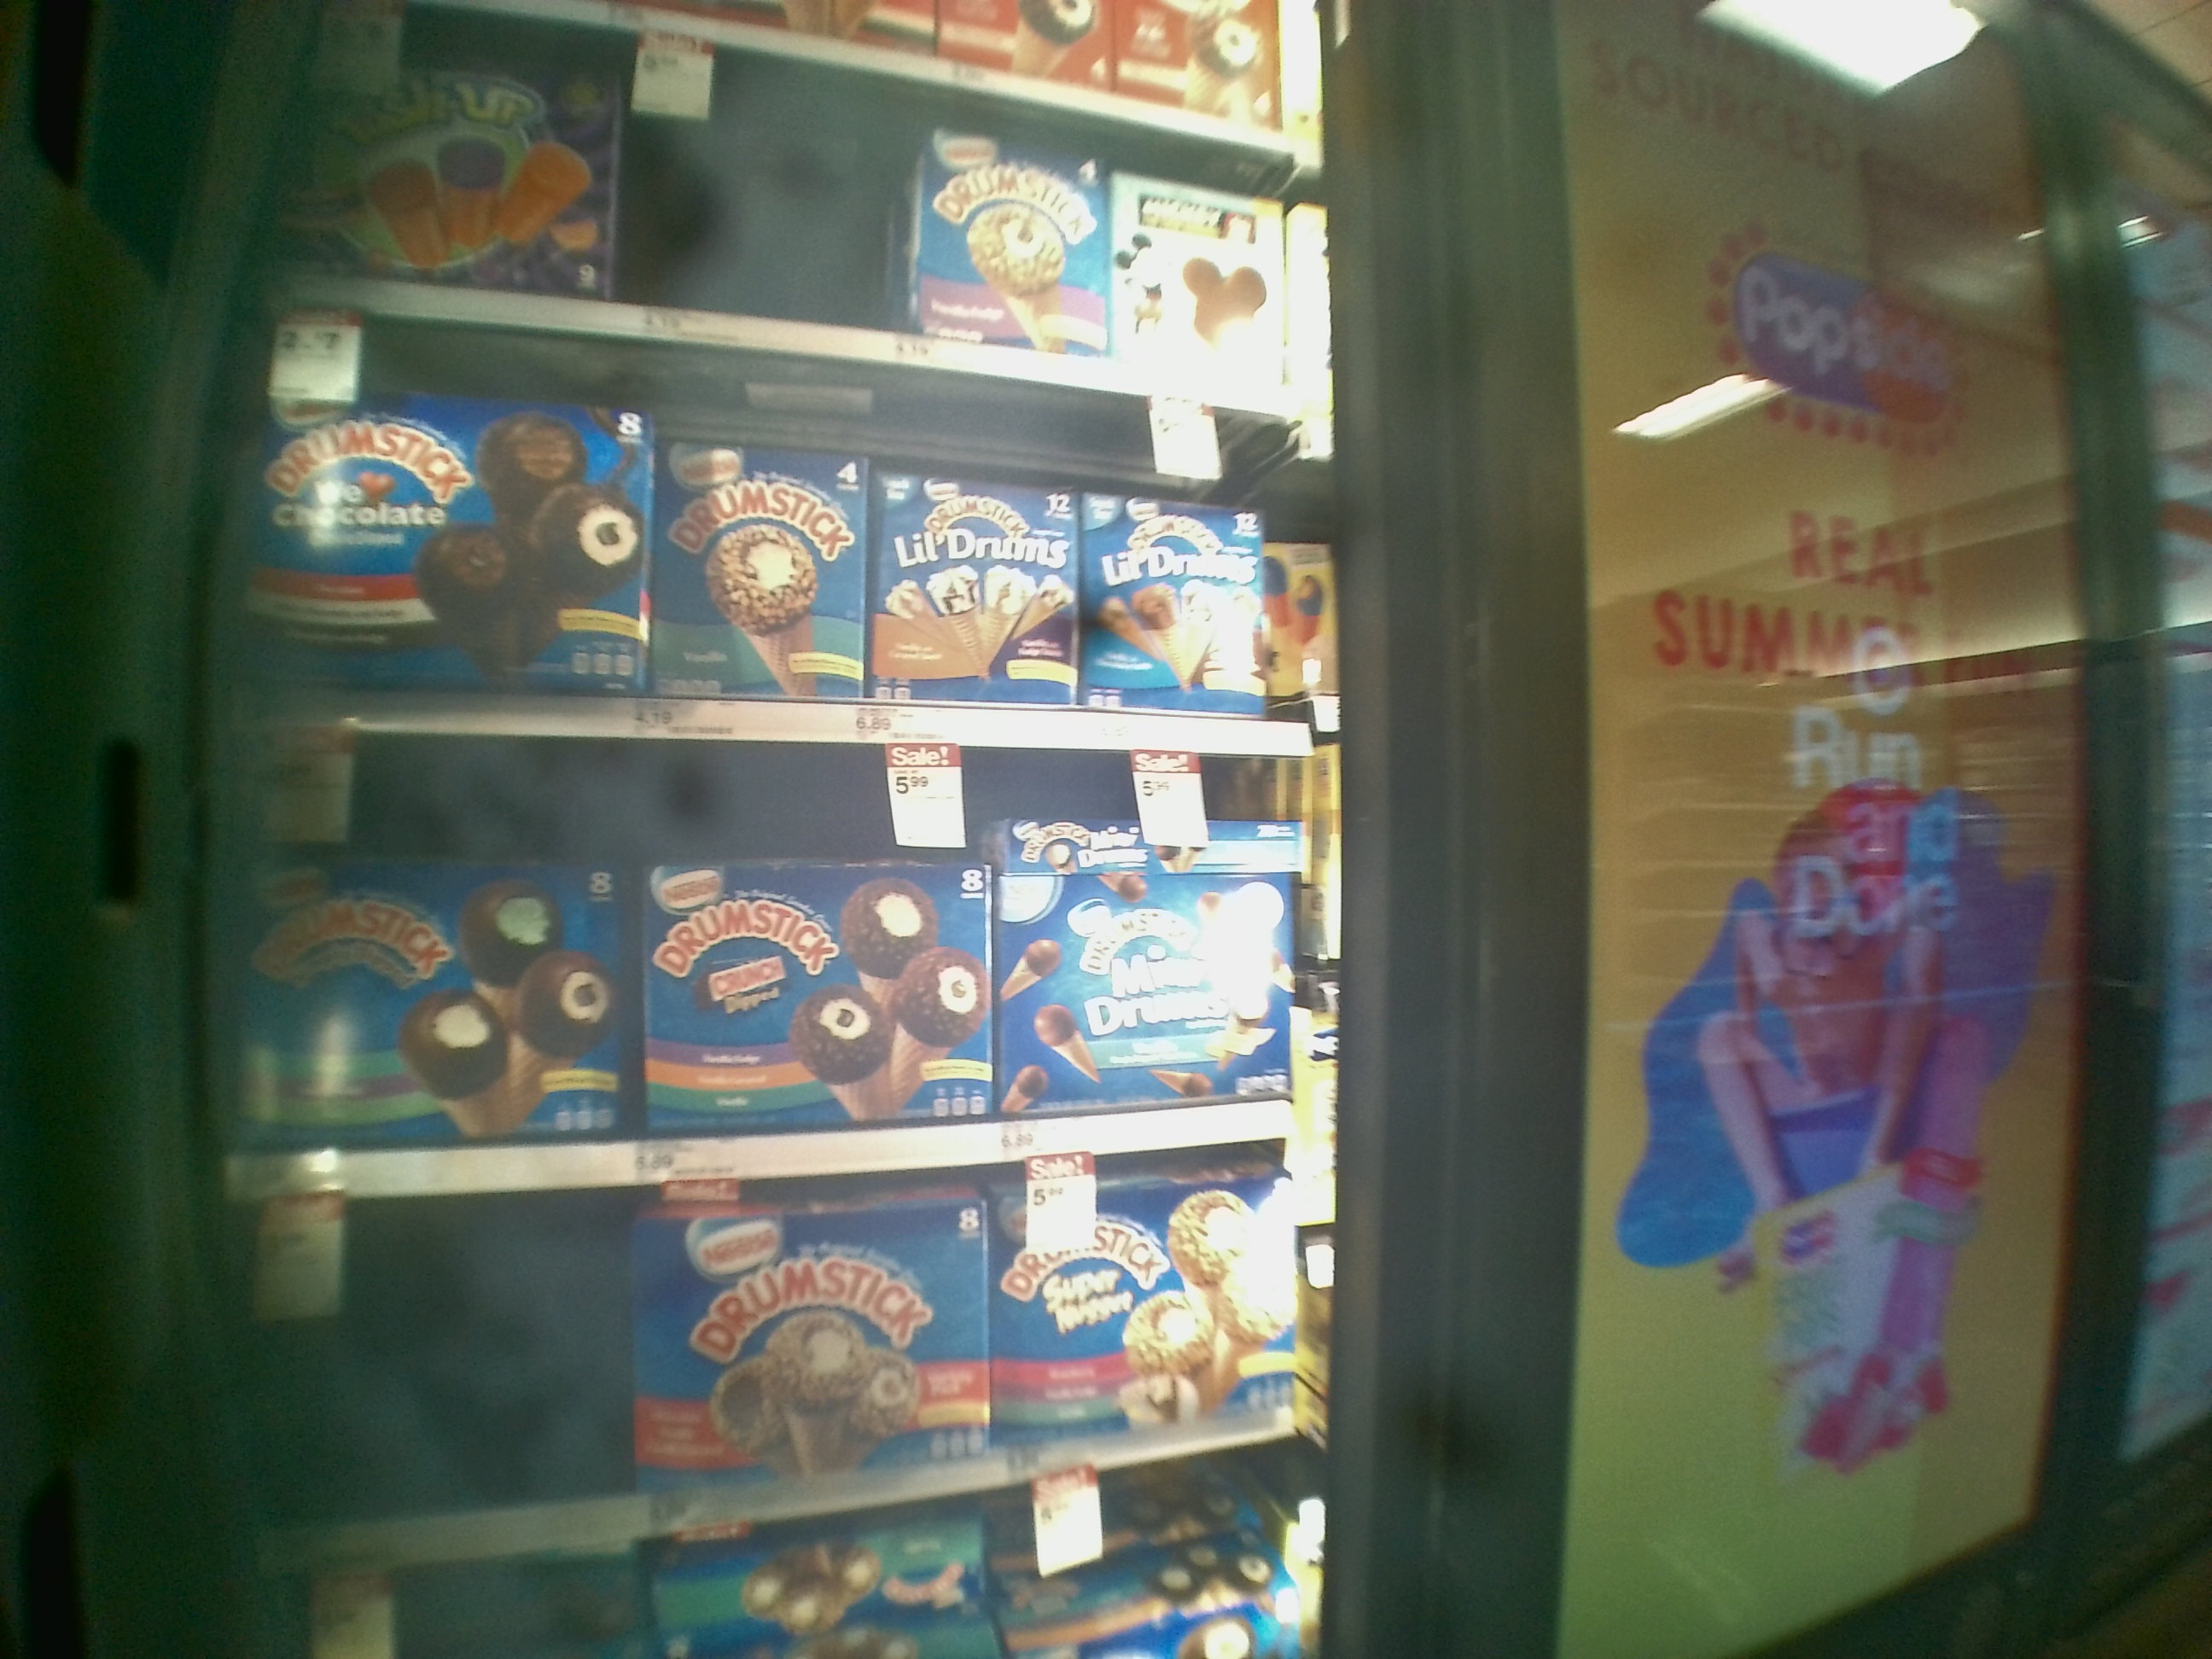shelf: (233, 288, 1320, 756), (225, 744, 1332, 1202), (223, 1143, 1348, 1579)
